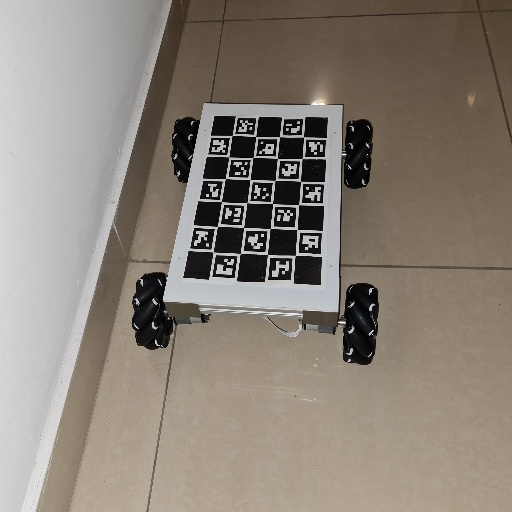Omniwheel: (131, 101, 381, 369)
